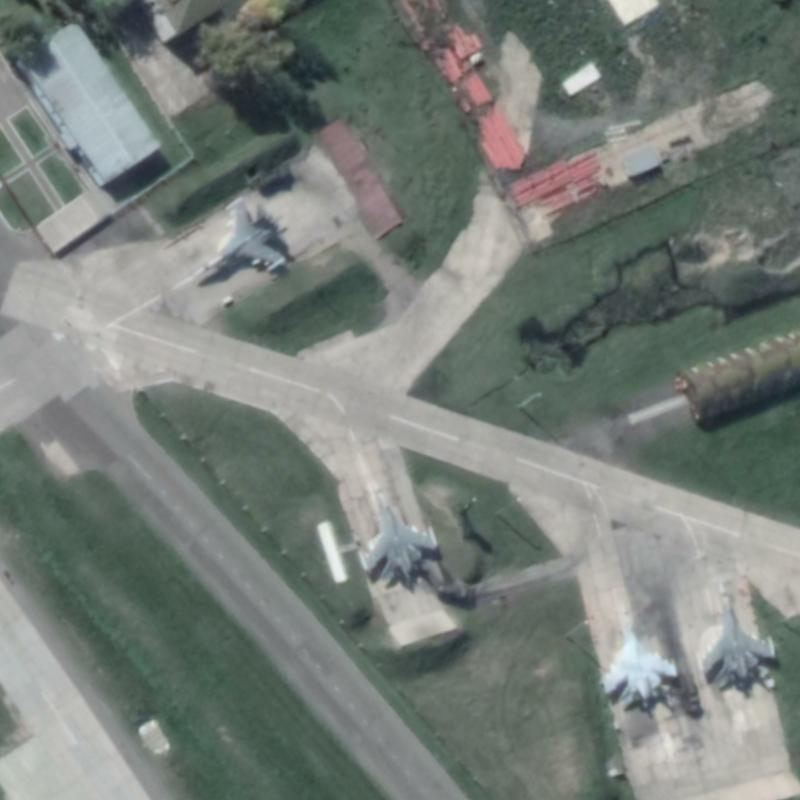A1: (696, 578, 778, 690), (599, 599, 680, 711), (357, 480, 438, 589), (193, 194, 286, 281)
